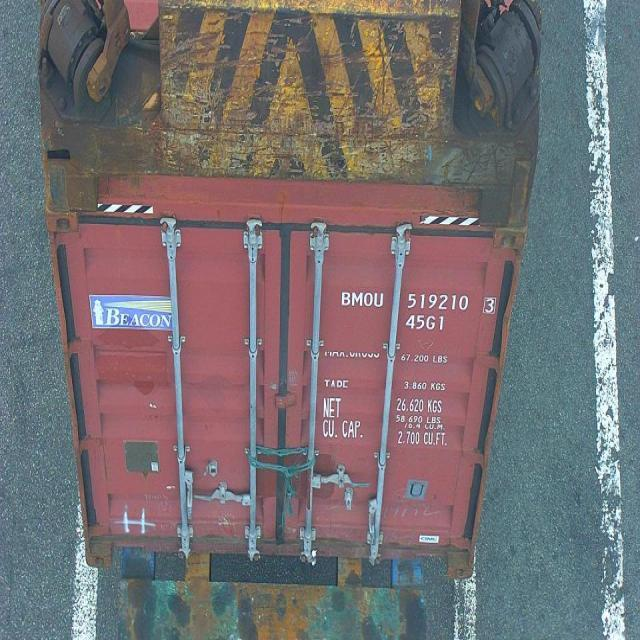ISO: (404, 311, 447, 331)
container_number: (342, 290, 498, 311)
